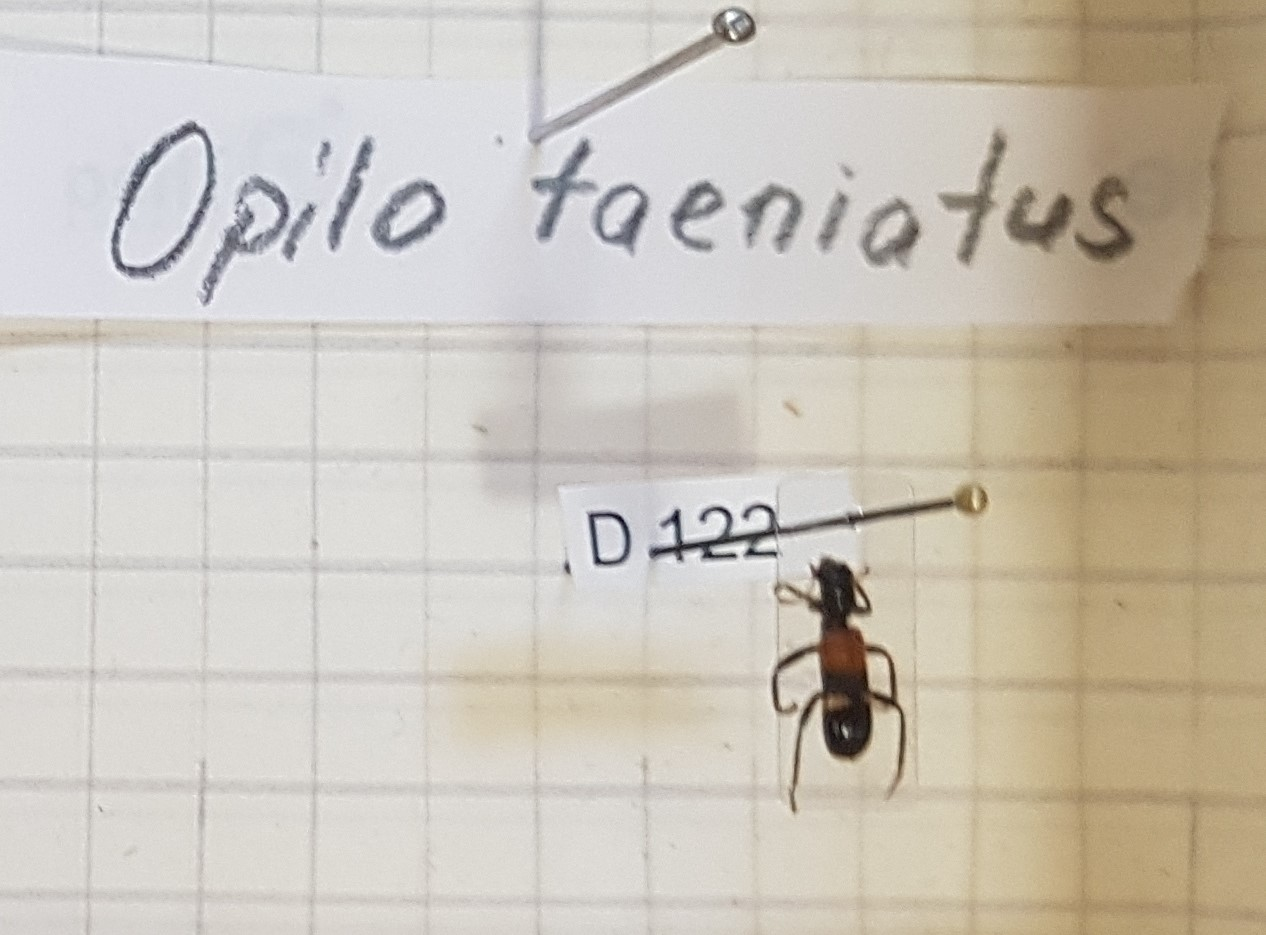opilo_taeniatus: (771, 549, 916, 815)
